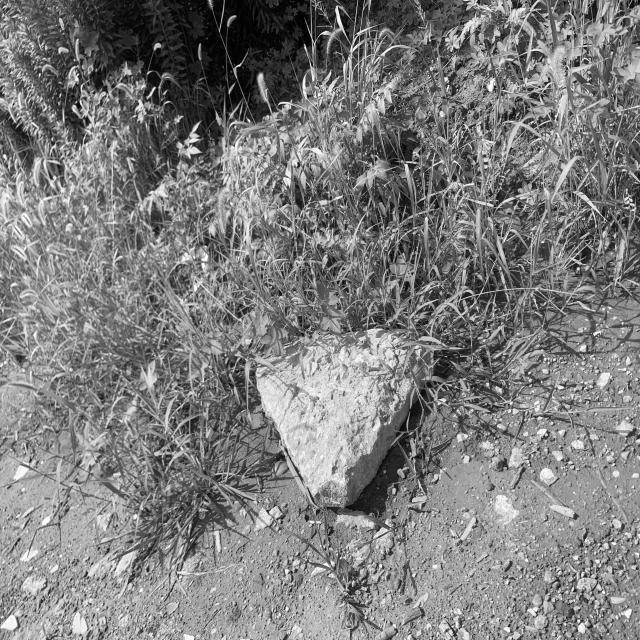Stone: (256, 329, 429, 507)
